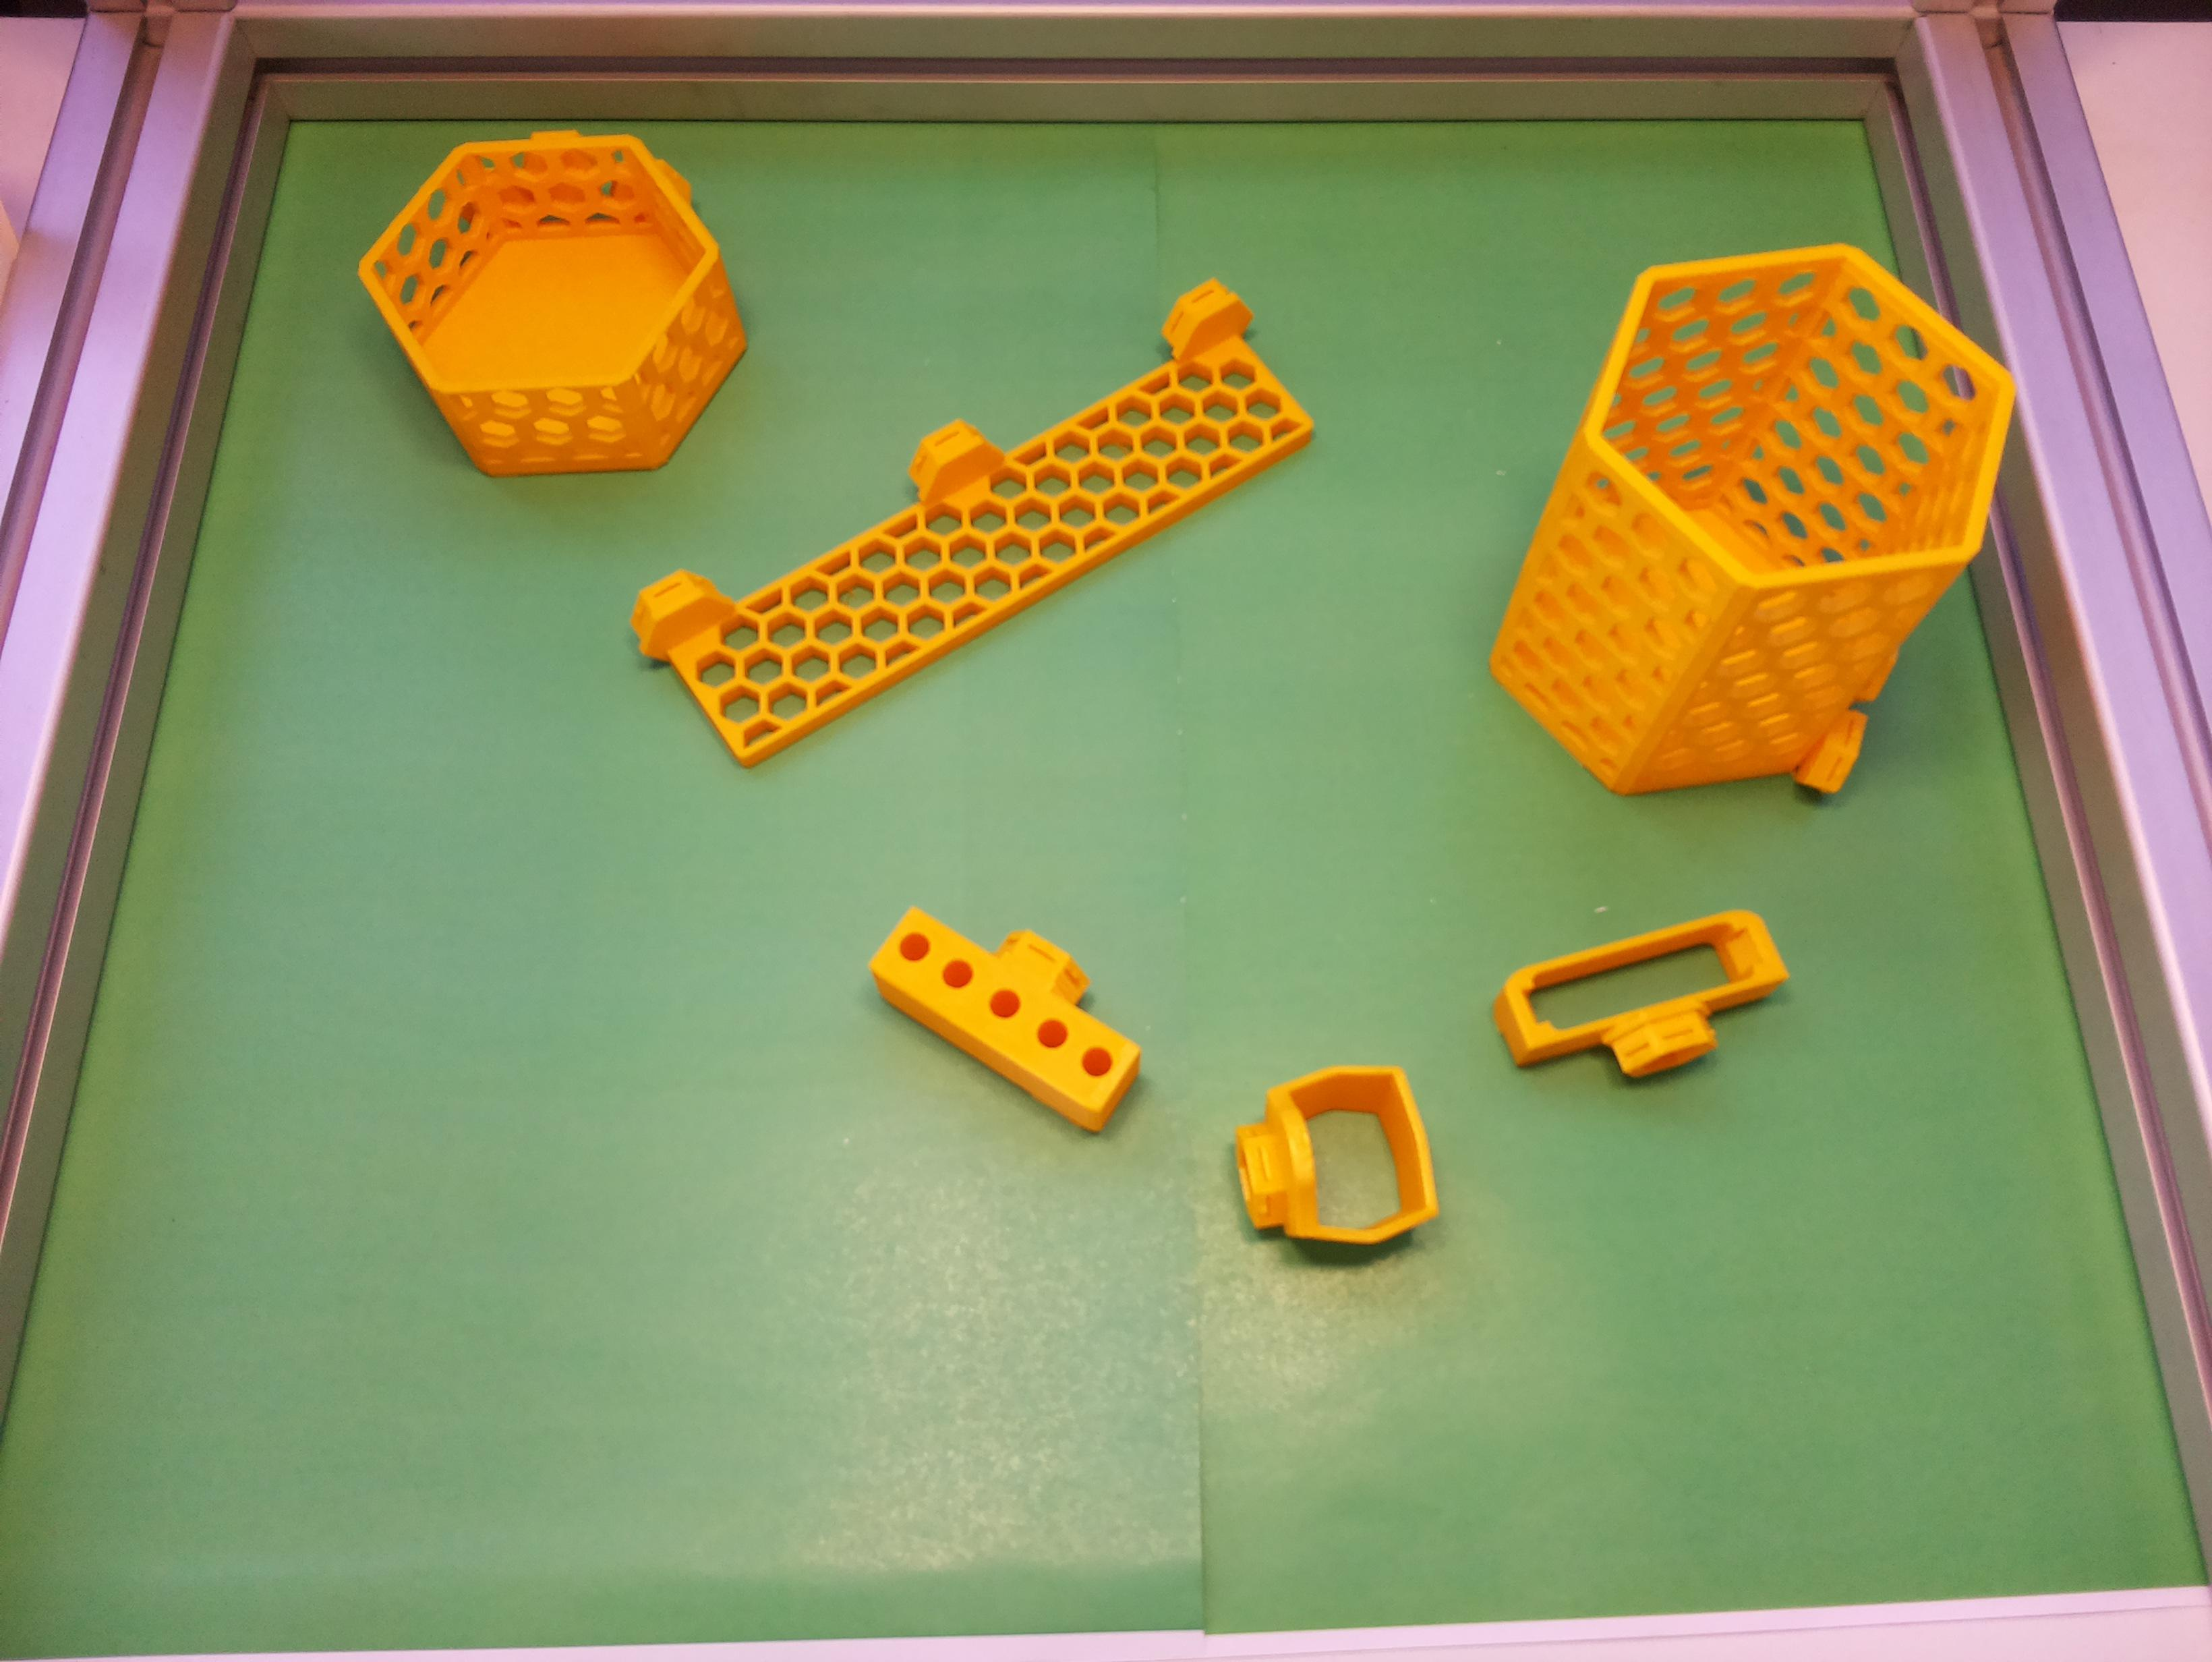bit_holder: (857, 866, 1171, 1138)
bottle_holder: (328, 63, 796, 548)
cup_holder: (1432, 169, 2074, 889)
cutter_holder: (1482, 887, 1803, 1116)
scissor_holder: (1222, 1051, 1446, 1266)
tool_holder: (616, 265, 1325, 784)
